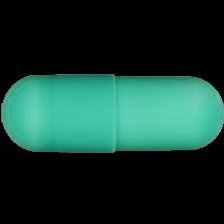10544-216: (0, 0, 224, 224)
